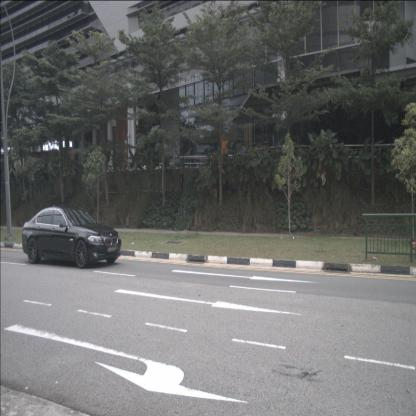vehicle-car: (22, 206, 121, 268)
